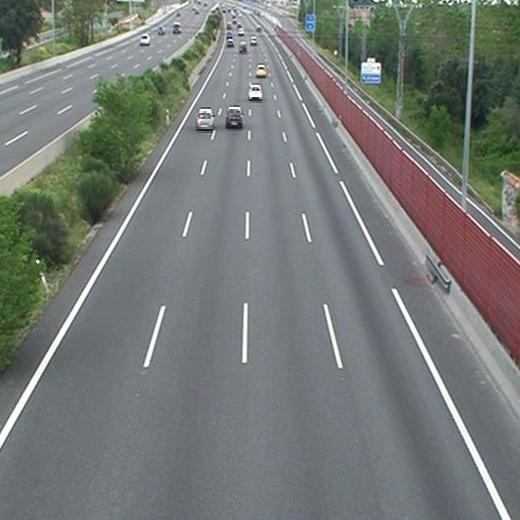car: (195, 108, 213, 129), (226, 108, 242, 127), (248, 85, 262, 100), (255, 65, 266, 77), (238, 42, 246, 52), (250, 37, 257, 43), (226, 39, 233, 45)
